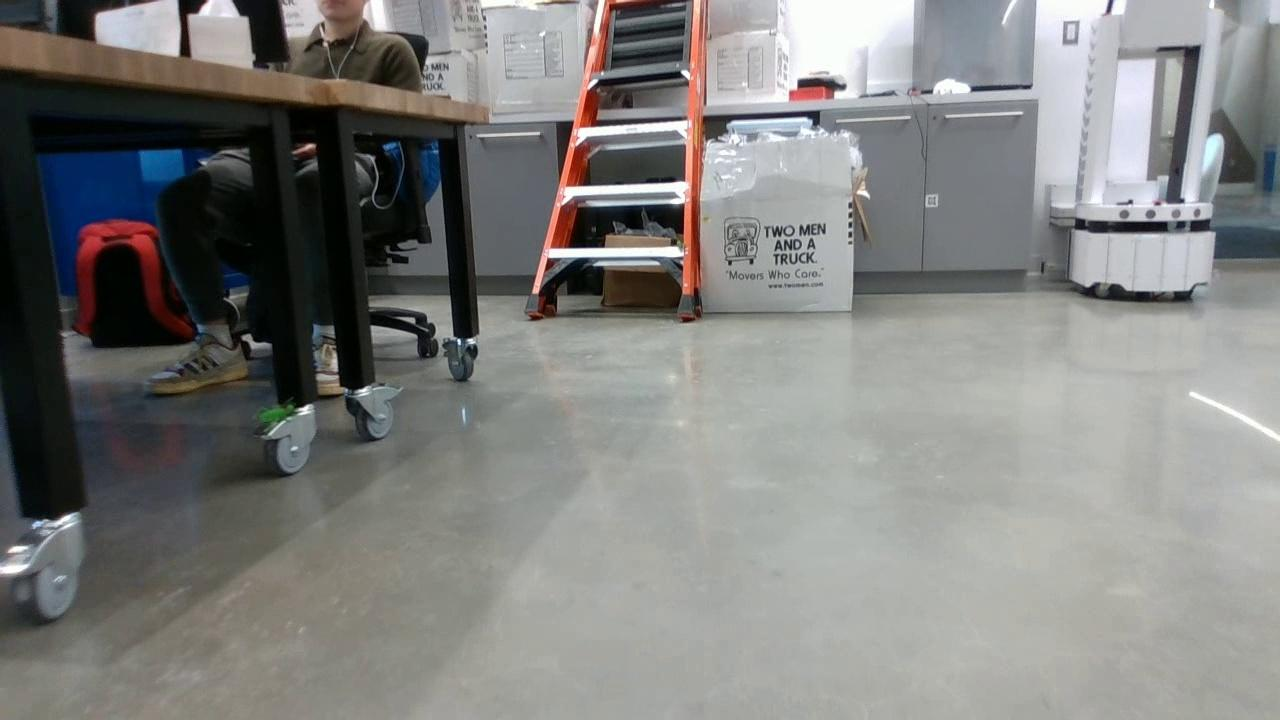grasshopper: (254, 402, 298, 430)
